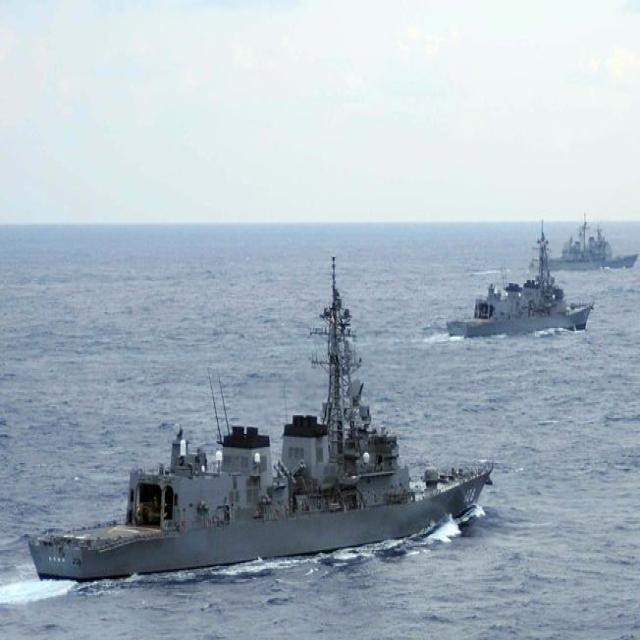navalvessels: (26, 264, 494, 611), (448, 244, 586, 338), (544, 213, 636, 271)
